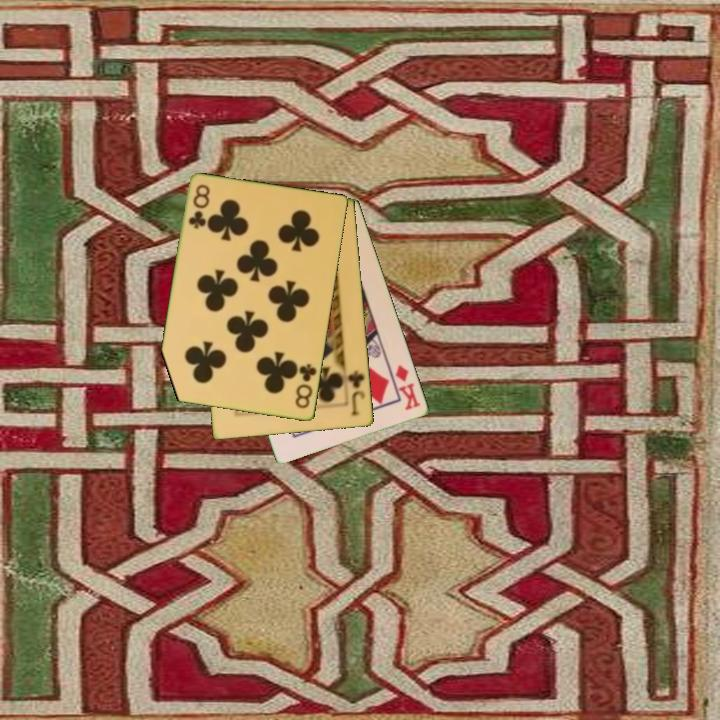8c: (292, 361, 320, 412), (185, 181, 213, 232)
Jc: (345, 367, 368, 419)
Kd: (387, 361, 423, 413)
